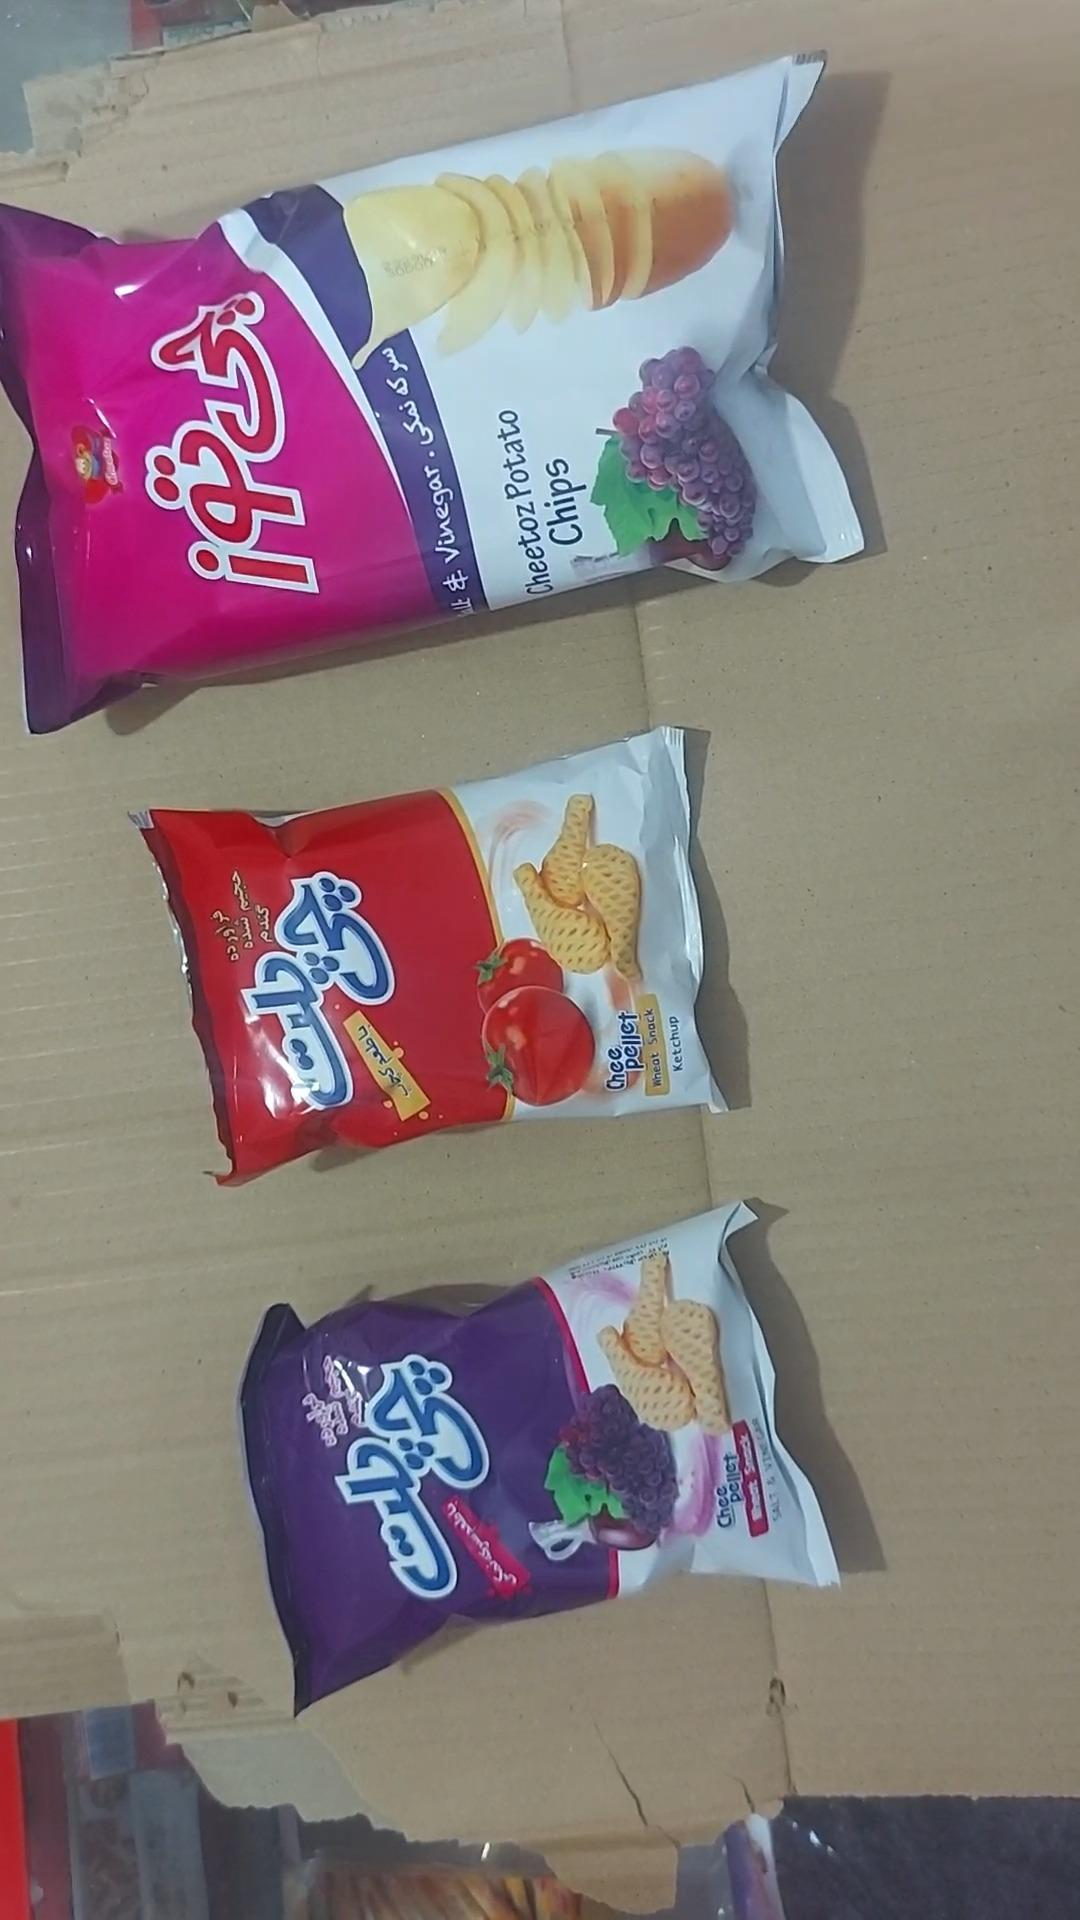Chee pellet ketchup: (129, 729, 723, 1189)
Chee pellet vinegar: (239, 1203, 841, 1714)
Cheetoz vinegar chips: (0, 53, 866, 738)
